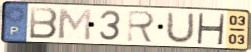3: (98, 9, 123, 42)
B: (28, 6, 60, 41)
H: (195, 11, 227, 46)
M: (56, 7, 93, 42)
R: (125, 9, 158, 44)
U: (163, 10, 196, 45)
